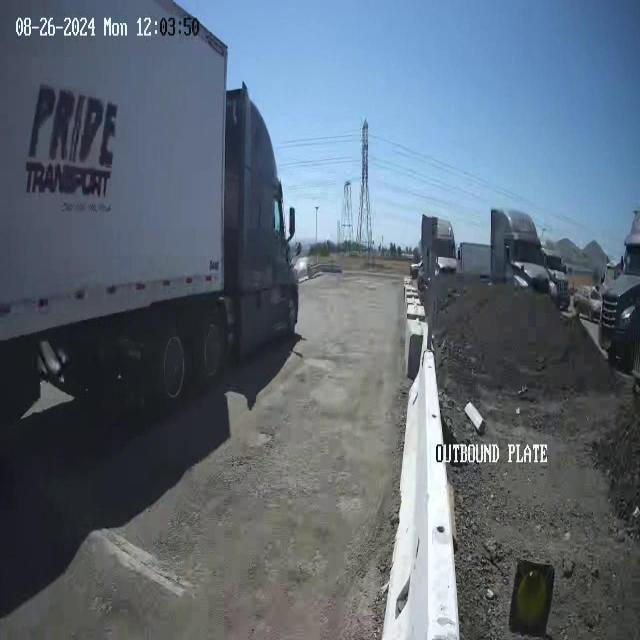CONTAINER: (1, 1, 228, 325)
